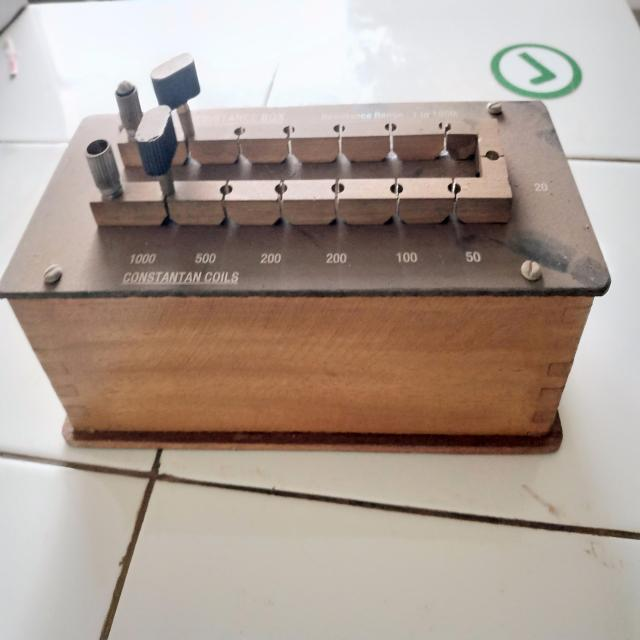Pinned Resistance Box: (1, 44, 621, 490)
